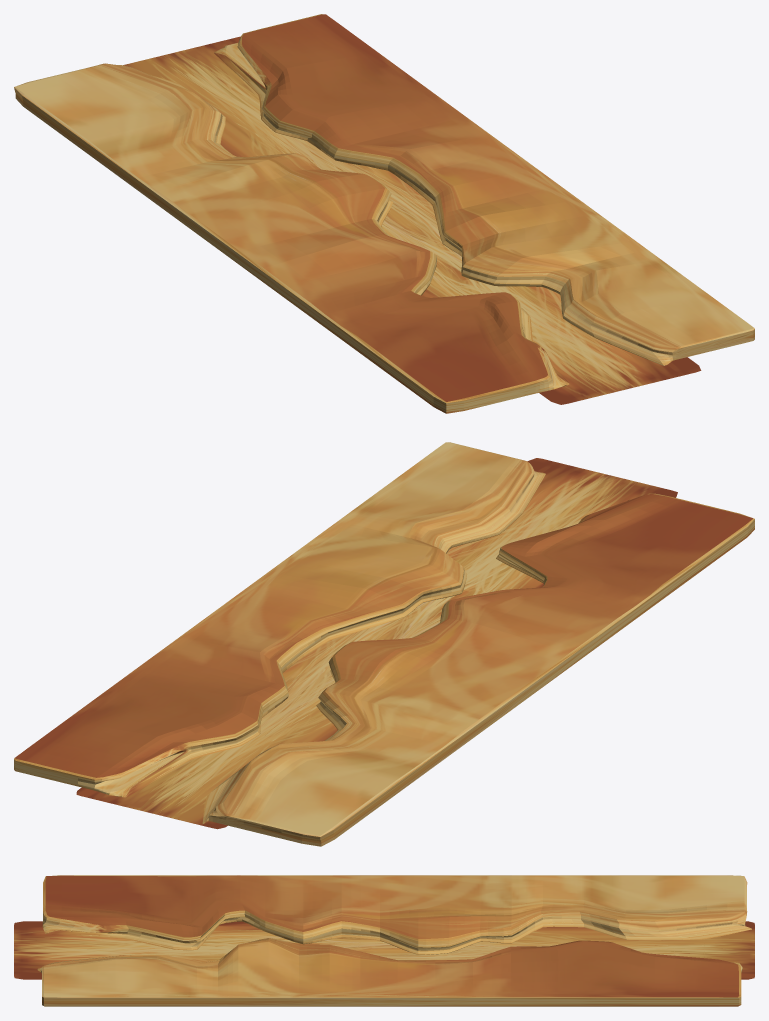
Rendered from Map.fbx.
3 renders of one model, top to bottom at view 1: azimuth 30°, elevation 25°; view 2: azimuth 150°, elevation 25°; view 3: azimuth 270°, elevation 25°, orthographic. The views are drawn at different scales.
Visible parts, largest first — view 1: Cube, Cube.001, Grid; view 2: Cube, Cube.001, Grid; view 3: Cube, Cube.001, Grid.
Part boxes in pixels (x1=…): Cube: x1=14, y1=63, x2=569, y2=413; Cube.001: x1=214, y1=14, x2=754, y2=365; Grid: x1=123, y1=36, x2=701, y2=404; Cube: x1=202, y1=493, x2=754, y2=846; Cube.001: x1=14, y1=442, x2=545, y2=797; Grid: x1=76, y1=458, x2=677, y2=829; Cube: x1=42, y1=875, x2=751, y2=954; Cube.001: x1=37, y1=938, x2=742, y2=1006; Grid: x1=14, y1=921, x2=754, y2=979.
Size of the model in its own units: 10539 by 914 by 26914.
